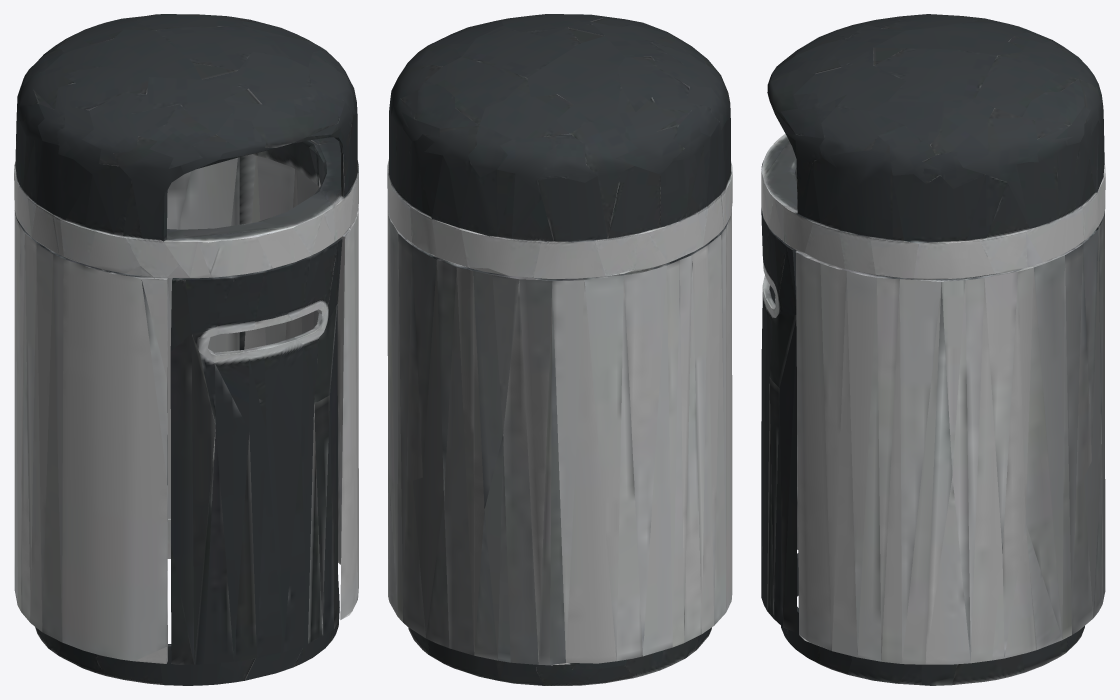
Rendered from trash_bin_street.glb.
3 views of the same model, side by side, from view 1: azimuth 30°, elevation 25°; view 2: azimuth 150°, elevation 25°; view 3: azimuth 270°, elevation 25° (orthographic).
Parts seen in each view (by area): view 1: Mesh_0; view 2: Mesh_0; view 3: Mesh_0.
Boxes of the visible parts, x1,y1,x2,y2 form: Mesh_0: [14, 14, 358, 685]; Mesh_0: [387, 14, 732, 685]; Mesh_0: [761, 14, 1105, 685].
Bounding box in the file's own units: 0.5486 × 1 × 0.5477.
1 material, 1 textured.
